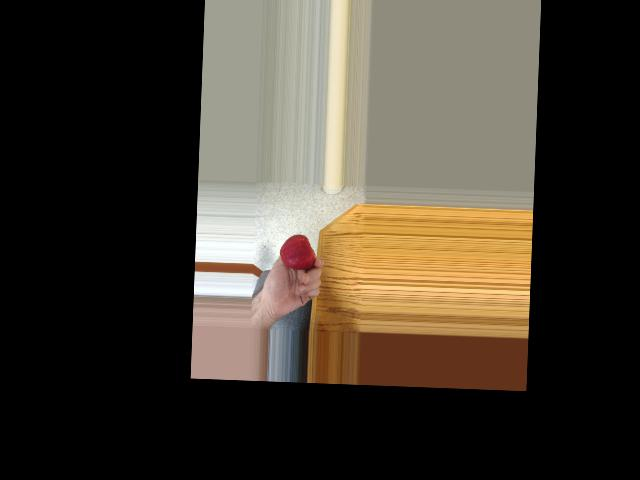apple: (279, 231, 315, 270)
